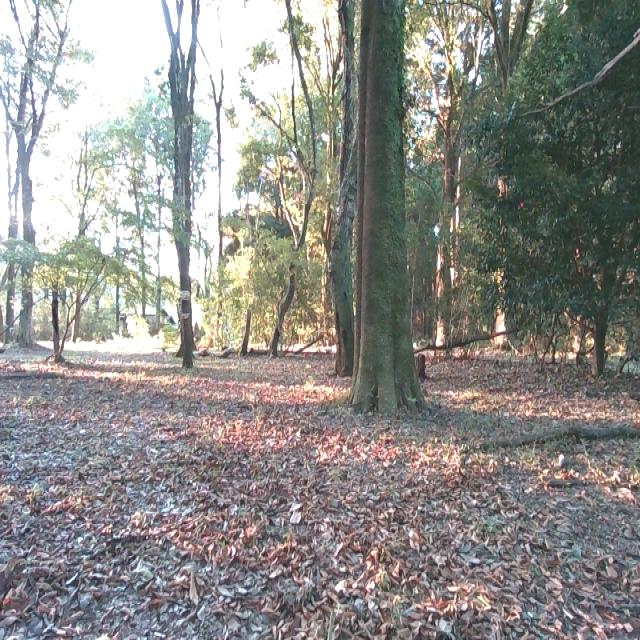tree: (338, 0, 431, 431), (259, 0, 315, 357), (314, 0, 360, 389), (161, 0, 203, 365), (0, 0, 42, 351), (585, 206, 625, 374), (45, 253, 71, 361)
